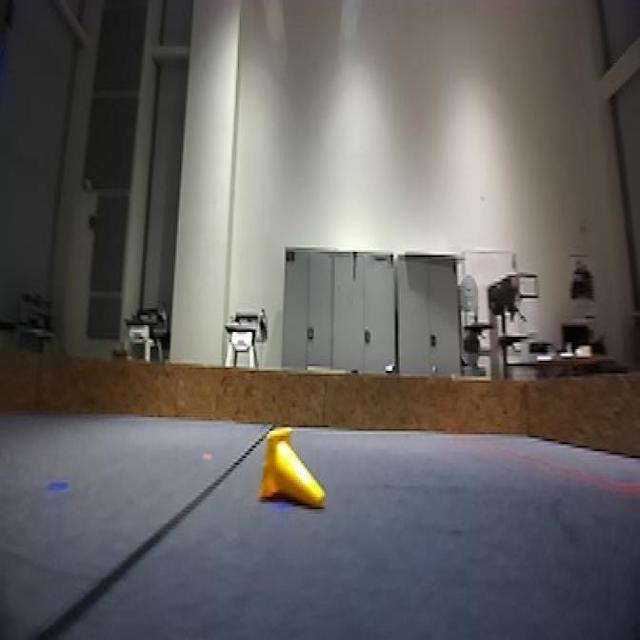frc_cone: (256, 424, 327, 512)
